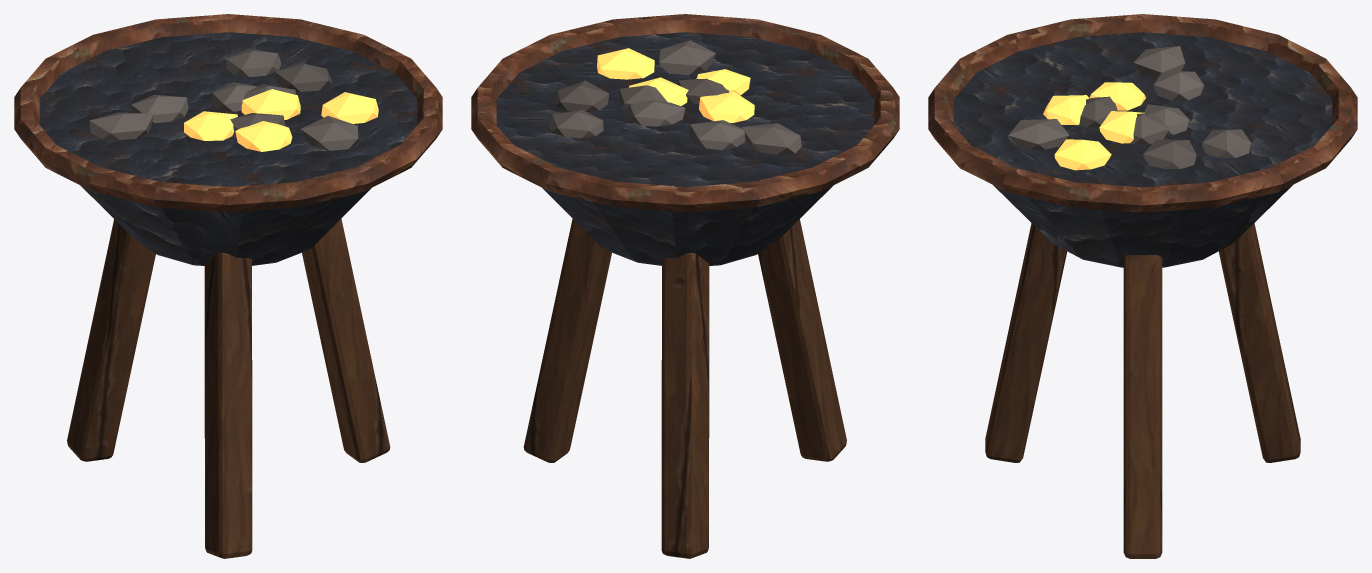
Rendered from brazier.glb.
The picture shows the model from 3 angles, left to right: view 1: azimuth 30°, elevation 25°; view 2: azimuth 150°, elevation 25°; view 3: azimuth 270°, elevation 25°; orthographic projection.
Parts seen in each view (by area): view 1: model; view 2: model; view 3: model.
Boxes of the visible parts, x1,y1,x2,y2 form: model: (14, 14, 442, 558); model: (471, 14, 899, 558); model: (928, 14, 1357, 558).
Bounding box in the file's own units: 0.68 × 0.6847 × 0.6697.
11 materials, 3 textured.
